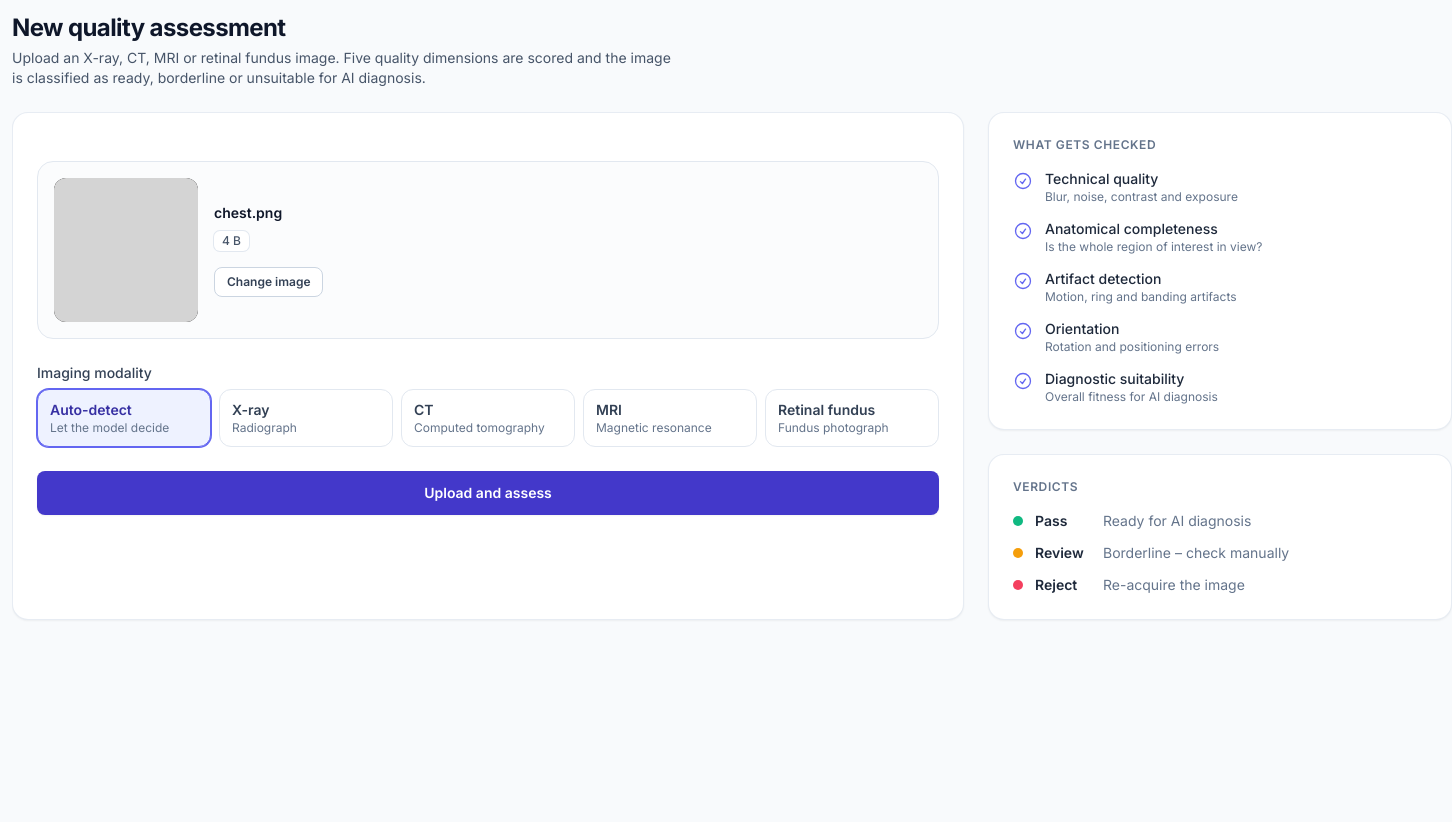
Test: UploadPage › shows the server error when the assessment fails
Earlier steps of the test are not shown.
Click the button "Upload and assess". click: (488, 493)
box: [37,471,939,515]
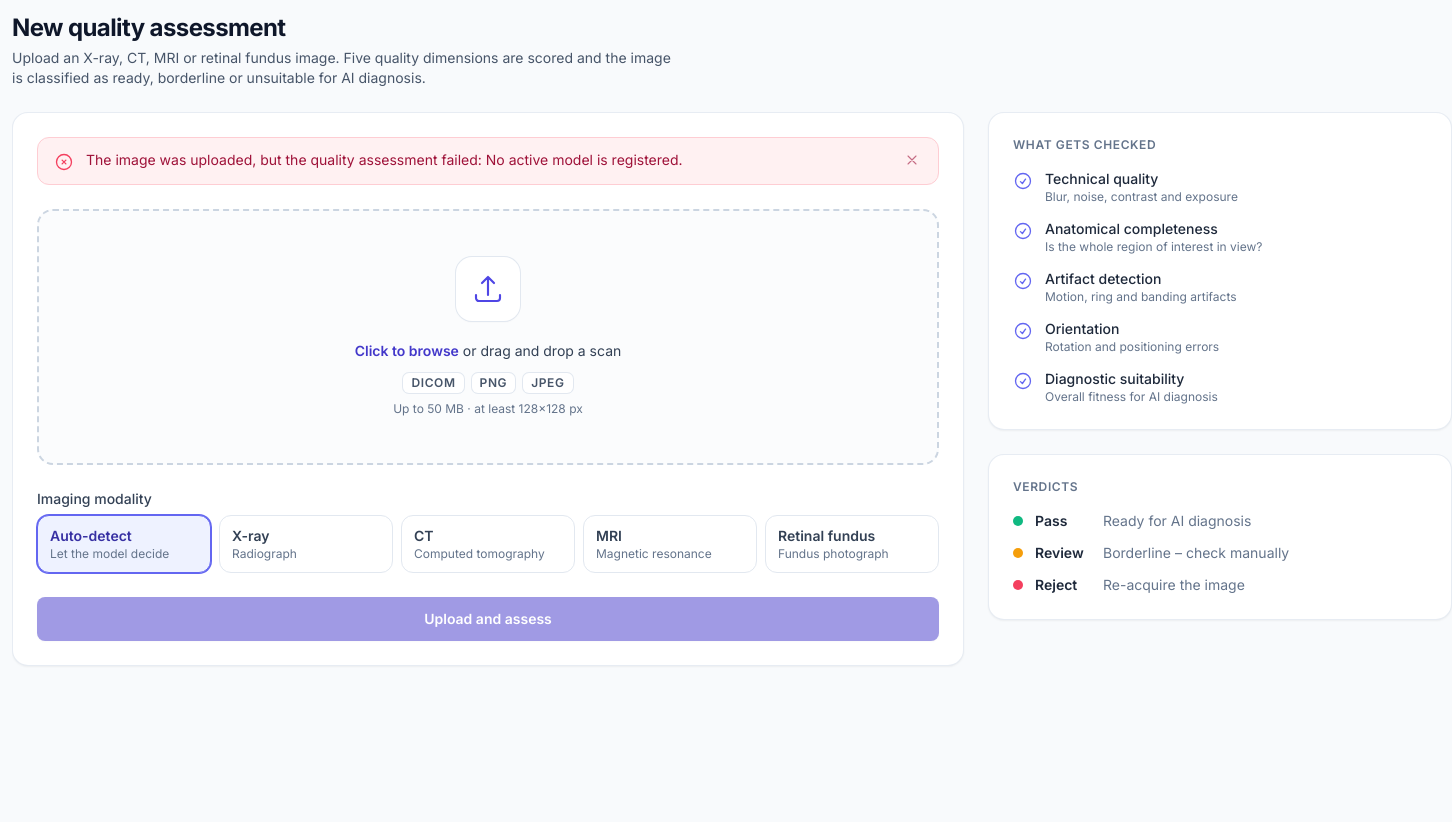
Check: the message shows "No active model is registered.", box [86,151,683,168]
